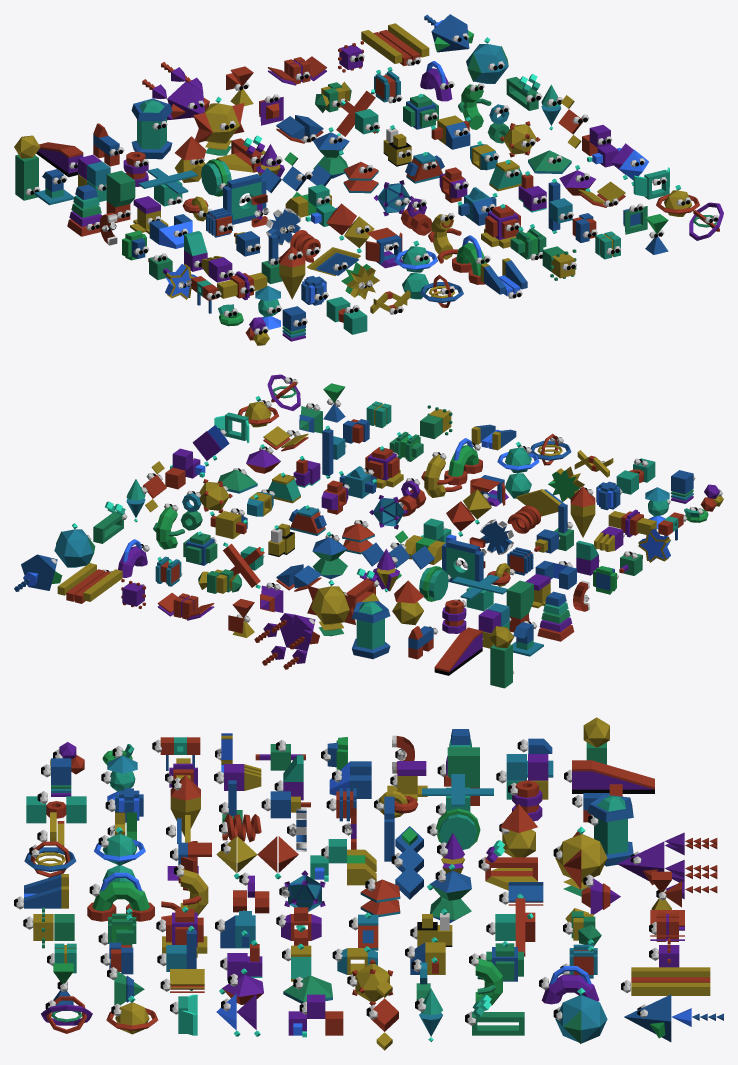
Rendered from 100 Geometry Characters Pack.fbx.
The picture shows the model from 3 angles, top to bottom: view 1: azimuth 30°, elevation 25°; view 2: azimuth 150°, elevation 25°; view 3: azimuth 270°, elevation 25°; orthographic projection. The views are drawn at different scales.
Parts seen in each view (by area): view 1: geometry_model_58, geometry_model_67, geometry_model_59, geometry_model_29, geometry_model_66, geometry_model_94, geometry_model_96, geometry_model_16, geometry_model_51, geometry_model_54, geometry_model_37, geometry_model_15 (+80 smaller); view 2: geometry_model_59, geometry_model_67, geometry_model_58, geometry_model_29, geometry_model_66, geometry_model_94, geometry_model_79, geometry_model_96, geometry_model_51, geometry_model_16, geometry_model_54, geometry_model_15 (+78 smaller); view 3: geometry_model_29, geometry_model_59, geometry_model_67, geometry_model_79, geometry_model_48, geometry_model_58, geometry_model_54, geometry_model_16, geometry_model_53, geometry_model_57, geometry_model_55, geometry_model_43 (+79 smaller).
Part boxes in pixels (left/top/right/bottom): geometry_model_58: left=193, top=96, right=244, bottom=155; geometry_model_67: left=131, top=98, right=172, bottom=159; geometry_model_59: left=142, top=62, right=209, bottom=120; geometry_model_29: left=361, top=23, right=429, bottom=65; geometry_model_66: left=223, top=174, right=266, bottom=224; geometry_model_94: left=14, top=135, right=40, bottom=200; geometry_model_96: left=67, top=184, right=101, bottom=236; geometry_model_16: left=466, top=37, right=508, bottom=83; geometry_model_51: left=394, top=240, right=437, bottom=299; geometry_model_54: left=285, top=184, right=337, bottom=226; geometry_model_37: left=481, top=204, right=520, bottom=248; geometry_model_15: left=424, top=14, right=473, bottom=52; geometry_model_59: left=254, top=613, right=319, bottom=669; geometry_model_67: left=352, top=601, right=390, bottom=659; geometry_model_58: left=307, top=580, right=355, bottom=636; geometry_model_29: left=57, top=563, right=122, bottom=603; geometry_model_66: left=442, top=539, right=483, bottom=586; geometry_model_94: left=489, top=626, right=514, bottom=688; geometry_model_79: left=434, top=627, right=483, bottom=675; geometry_model_96: left=537, top=591, right=574, bottom=641; geometry_model_51: left=497, top=442, right=539, bottom=498; geometry_model_16: left=54, top=523, right=95, bottom=567; geometry_model_54: left=404, top=518, right=456, bottom=564; geometry_model_15: left=14, top=554, right=62, bottom=591; geometry_model_29: left=621, top=967, right=710, bottom=995; geometry_model_59: left=617, top=832, right=717, bottom=899; geometry_model_67: left=587, top=794, right=633, bottom=866; geometry_model_79: left=564, top=760, right=654, bottom=793; geometry_model_48: left=87, top=872, right=154, bottom=921; geometry_model_58: left=553, top=826, right=607, bottom=896; geometry_model_54: left=310, top=839, right=376, bottom=885; geometry_model_16: left=553, top=987, right=607, bottom=1043; geometry_model_53: left=216, top=836, right=298, bottom=879; geometry_model_57: left=478, top=840, right=537, bottom=890; geometry_model_55: left=391, top=826, right=423, bottom=899; geometry_model_43: left=427, top=864, right=471, bottom=922.
Bounding box in the file's own units: 6563 × 757 × 6999.
1 material, 1 textured.
